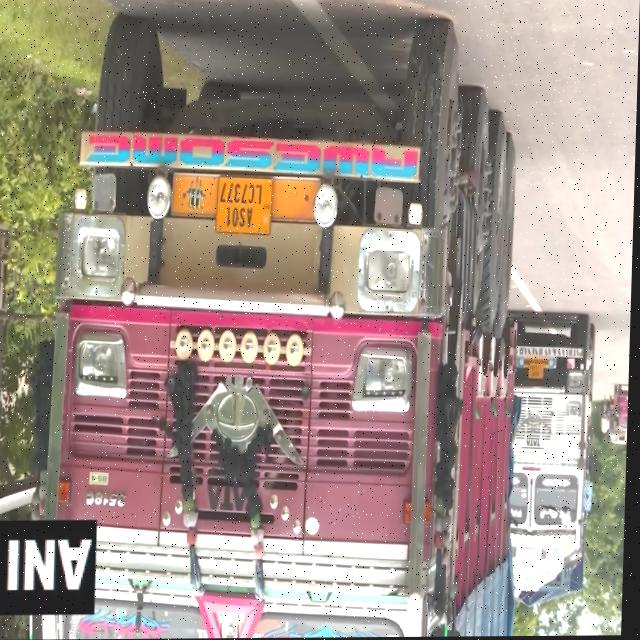plate: (215, 170, 273, 238)
